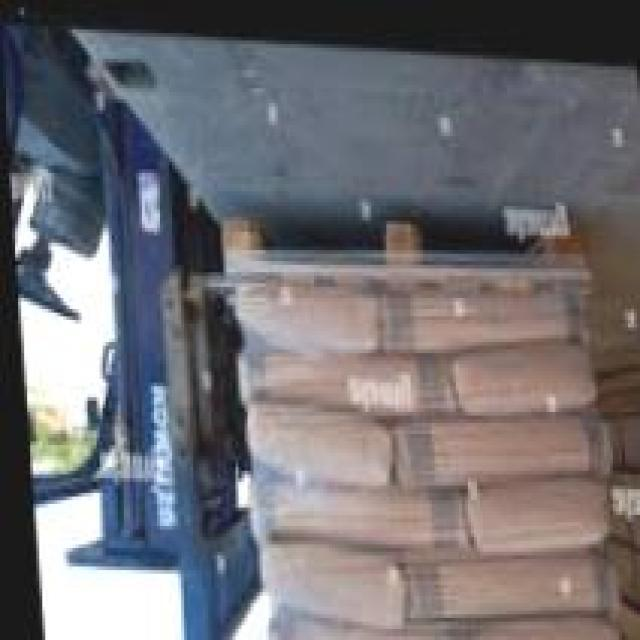gunny_bag: (398, 536, 611, 611), (389, 404, 599, 477), (244, 465, 462, 535), (230, 341, 451, 405), (248, 531, 399, 621), (377, 277, 577, 341), (240, 395, 387, 474), (231, 274, 374, 347), (455, 465, 602, 536), (447, 334, 589, 401), (259, 596, 468, 640), (469, 604, 611, 640)
